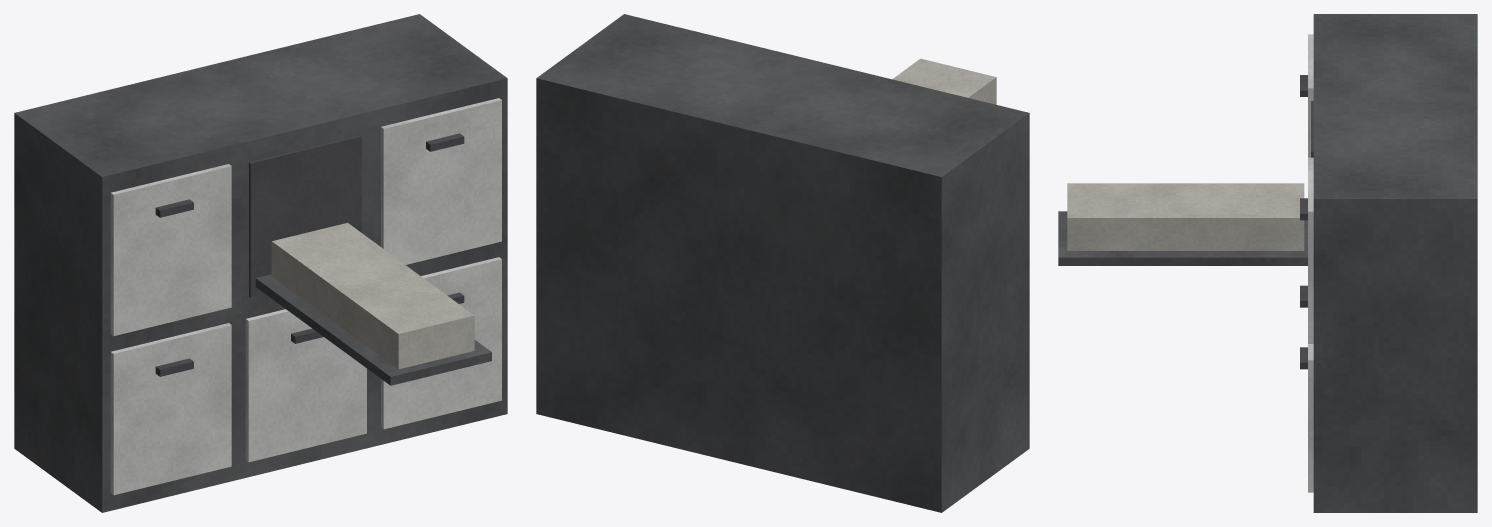
File: int_morgue_freezer.glb
The picture shows the model from 3 angles, left to right: view 1: azimuth 30°, elevation 25°; view 2: azimuth 150°, elevation 25°; view 3: azimuth 270°, elevation 25°; orthographic projection. The views are drawn at different scales.
Parts seen in each view (by area): view 1: detail, body-col; view 2: body-col, detail; view 3: body-col, detail.
Part boxes in pixels (bbox=[...]): detail: bbox=[110, 98, 501, 495]; body-col: bbox=[14, 14, 507, 512]; body-col: bbox=[536, 14, 1029, 512]; detail: bbox=[892, 58, 996, 104]; body-col: bbox=[1313, 14, 1477, 512]; detail: bbox=[1058, 34, 1313, 492].
Size of what is drawn, in the model's own units: 2.4 by 1.9 by 2.3.
4 materials, 4 textured.
